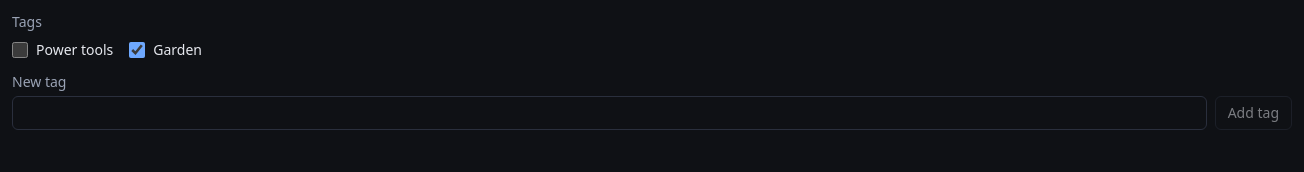
Scenario: TagPicker › creates a new tag inline and selects it
Check: the checkbox labelled "Garden" is shown, box [129,42,145,58]
In the field labelled "New tag": (609, 113) [12,96,1207,130], type " Kitchen "
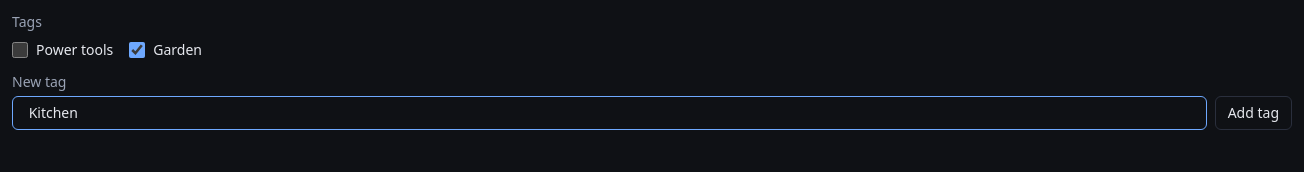
Click the button "Add tag": (1253, 113) [1215,96,1292,130]
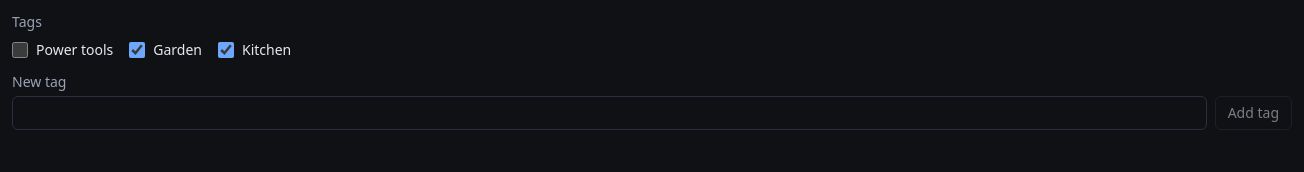
Check: the checkbox labelled "Kitchen" is checked, box [218,42,234,58]
Check: the field labelled "New tag" is empty, box [12,96,1207,130]
